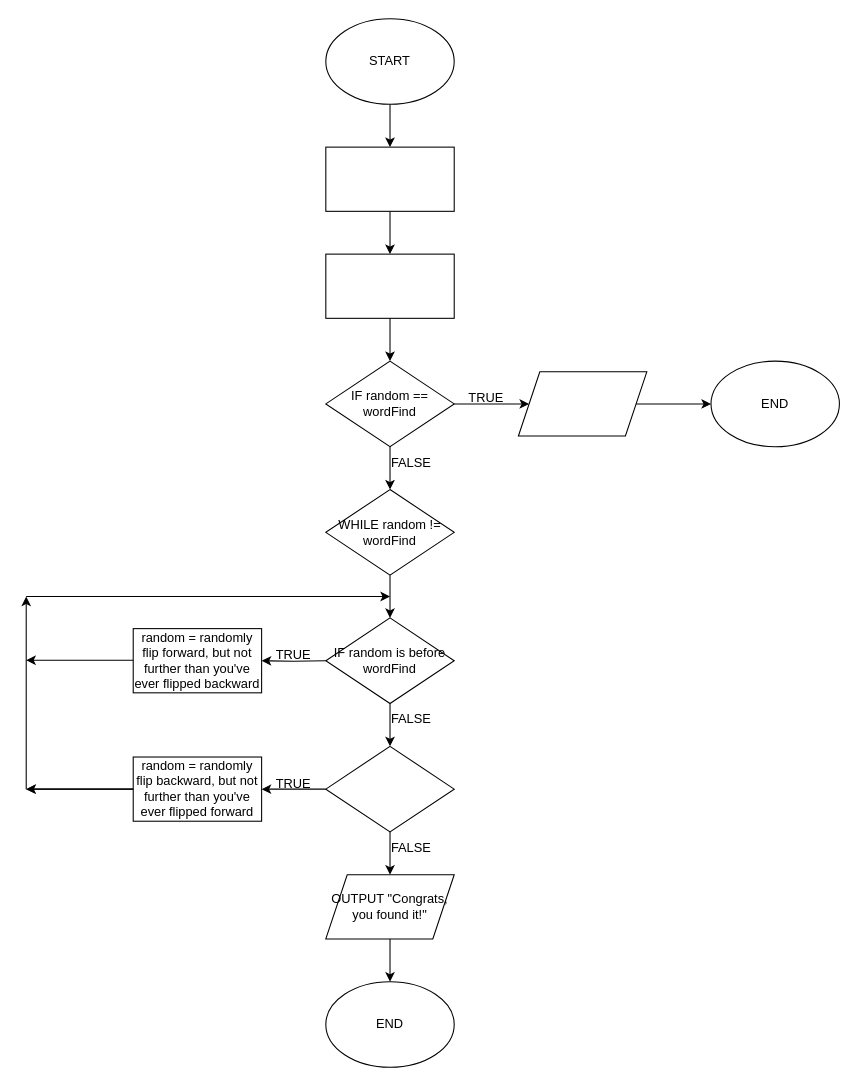
Some shapes in this 858 by 1086 pixel diagram are drawn without their labels. The shapes that lost their labels are listed below. From the top down, each one's centre as x and y in pixels, then its label:
the point at 389,178: INPUT wordFind
the point at 389,285: random = randomly flip to a word
the point at 582,403: OUTPUT "Well aren't you lucky"
the point at 389,788: IF random is after wordFind
